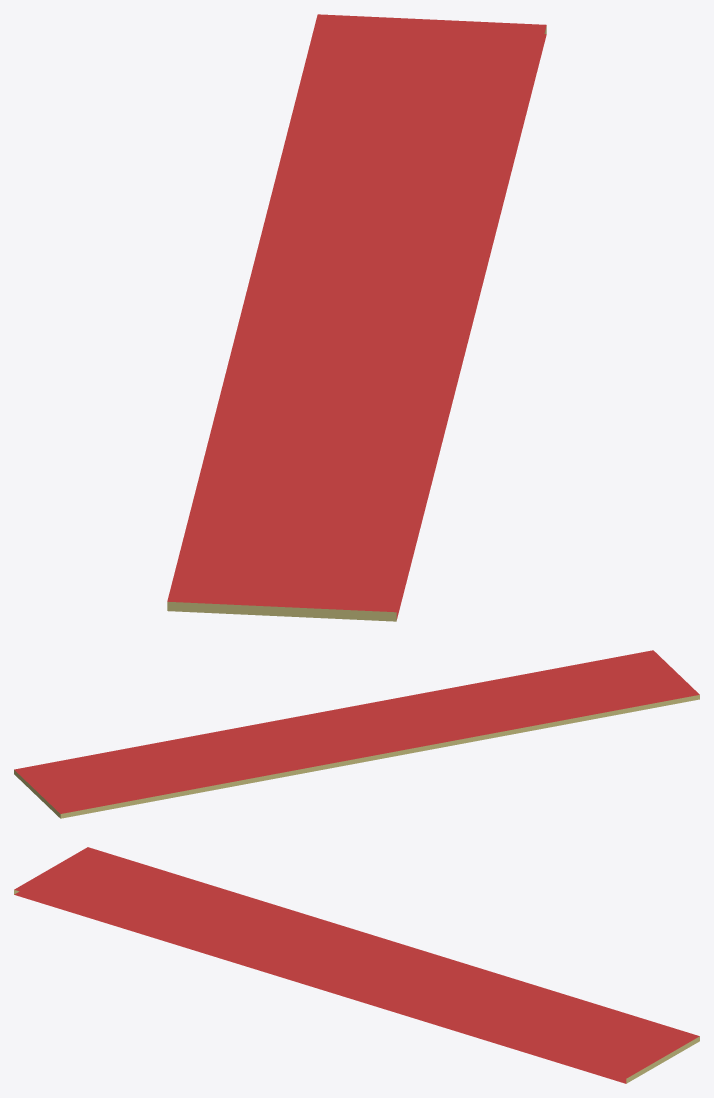
The picture shows the model from 3 angles, top to bottom: view 1: azimuth 30°, elevation 25°; view 2: azimuth 150°, elevation 25°; view 3: azimuth 270°, elevation 25°; orthographic projection. The views are drawn at different scales.
Bounding box in the file's own units: 9.78 × 12.23 × 0.1.
